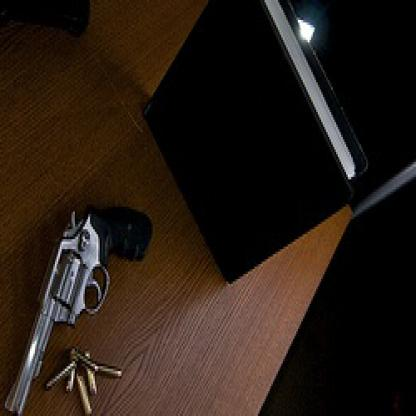gun: (0, 204, 152, 414)
